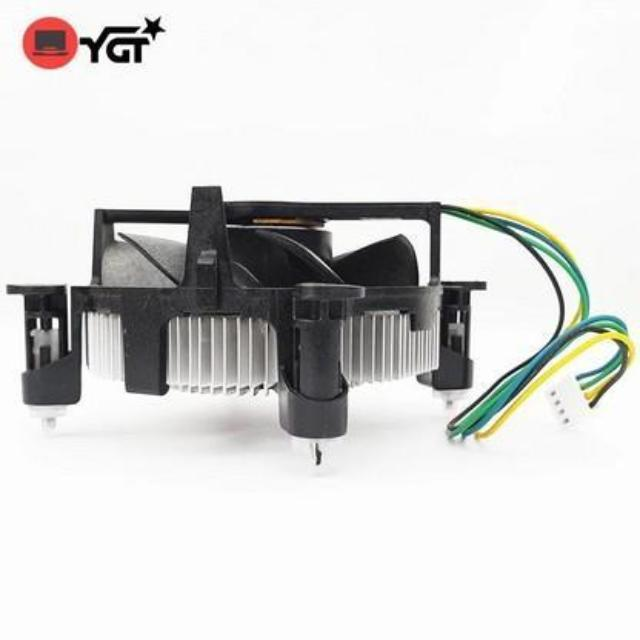CPU_Fan: (11, 188, 477, 428)
